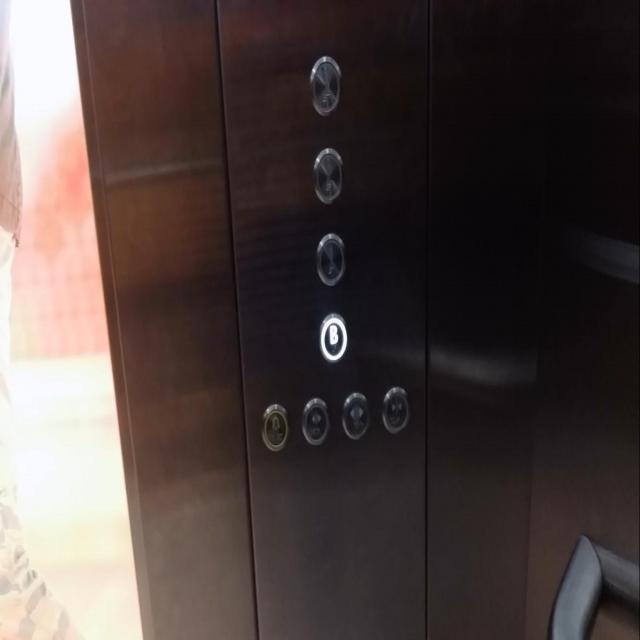1: (313, 228, 347, 288)
B: (316, 308, 351, 368)
alarm: (258, 396, 292, 456)
blur: (307, 51, 343, 119), (310, 143, 345, 206)
close: (378, 380, 412, 440)
open: (339, 386, 374, 446), (298, 392, 332, 452)
